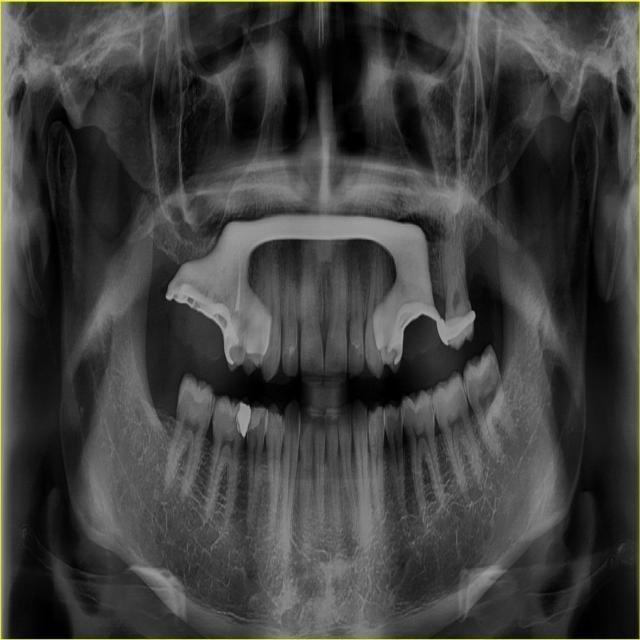Filling: (236, 403, 251, 438), (246, 407, 266, 432)
